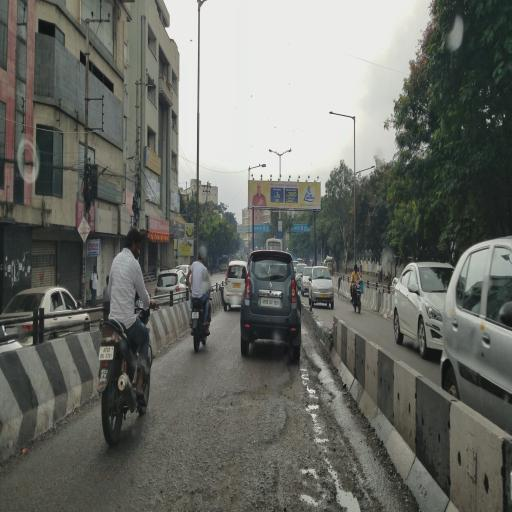street_light_0: (322, 94, 354, 124), (242, 156, 268, 180), (278, 141, 296, 163), (264, 141, 280, 163)
